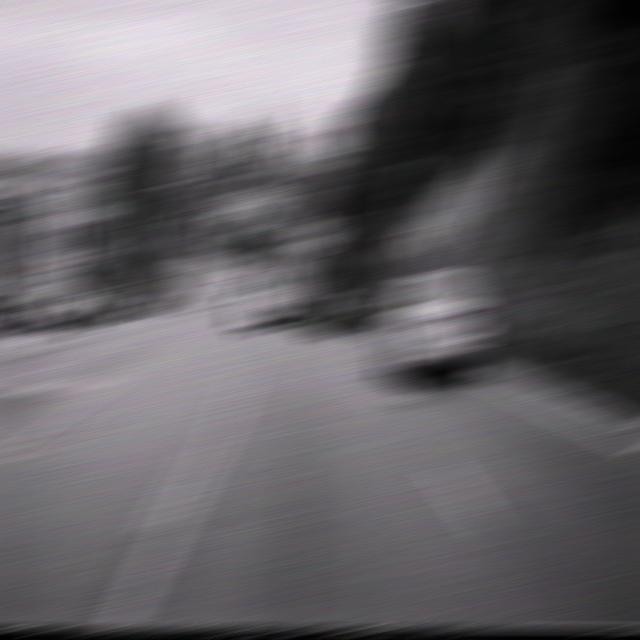pedestrianCrossing: (401, 215, 439, 256)
